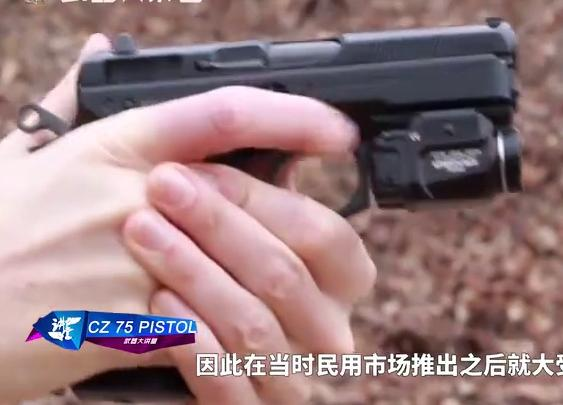gun: (1, 1, 563, 405)
